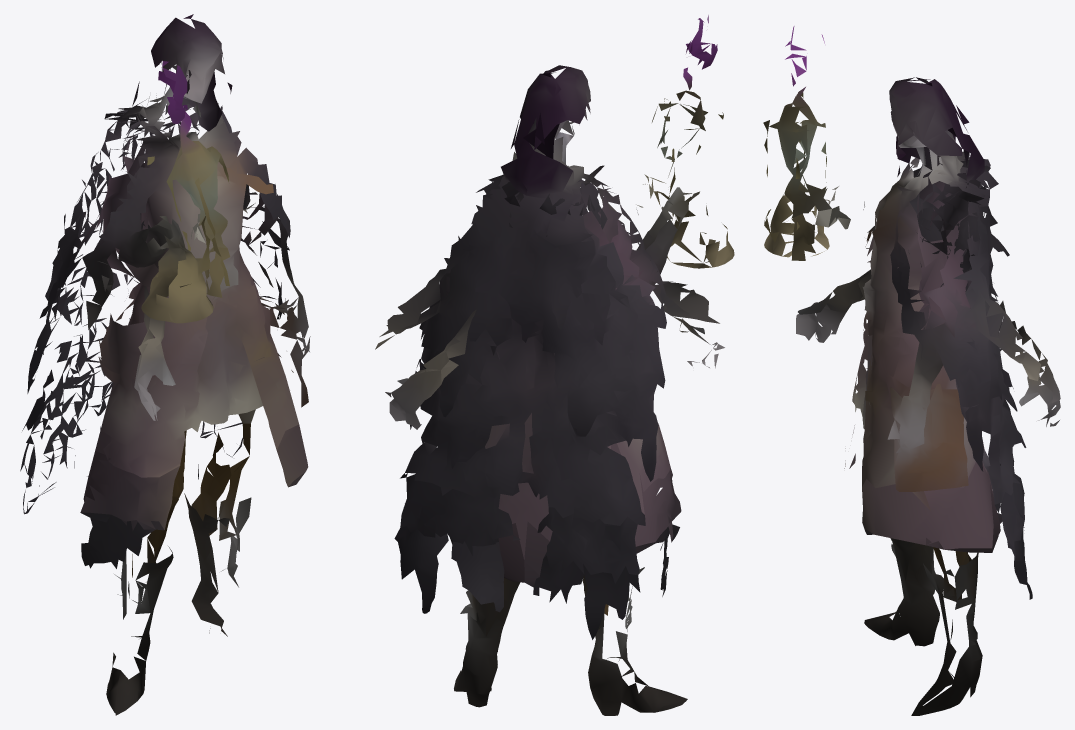
File: mirela.glb
3 renders of one model, left to right at view 1: azimuth 30°, elevation 25°; view 2: azimuth 150°, elevation 25°; view 3: azimuth 270°, elevation 25°, orthographic. The views are drawn at different scales.
Visible parts, largest first — view 1: torso, hips, thighL, armL, thighR, foreL, shinL, shinR, armR; view 2: torso, hips, thighR, thighL, shinL, foreR, shinR, armL, armR; view 3: torso, hips, armL, foreL, shinL, thighR, shinR, armR, foreR, thighL.
Boxes of the visible parts, left/top/right/bottom form: torso: left=22, top=17, right=310, bottom=477; hips: left=20, top=404, right=308, bottom=530; thighL: left=23, top=455, right=178, bottom=612; armL: left=115, top=65, right=228, bottom=256; thighR: left=184, top=421, right=305, bottom=560; foreL: left=134, top=220, right=230, bottom=420; shinL: left=106, top=573, right=165, bottom=715; shinR: left=191, top=536, right=238, bottom=636; armR: left=165, top=72, right=232, bottom=135; torso: left=375, top=15, right=734, bottom=525; hips: left=400, top=443, right=681, bottom=583; thighR: left=394, top=523, right=524, bottom=636; thighL: left=524, top=521, right=679, bottom=652; shinL: left=588, top=622, right=687, bottom=715; foreR: left=385, top=309, right=476, bottom=429; shinR: left=454, top=612, right=504, bottom=707; armL: left=523, top=67, right=707, bottom=236; armR: left=476, top=113, right=544, bottom=227; torso: left=764, top=26, right=1059, bottom=510; hips: left=844, top=425, right=1024, bottom=549; armL: left=763, top=73, right=990, bottom=226; foreL: left=764, top=207, right=950, bottom=342; shinL: left=864, top=548, right=939, bottom=646; thighR: left=865, top=483, right=1032, bottom=620; shinR: left=911, top=592, right=982, bottom=715; armR: left=897, top=105, right=986, bottom=255; foreR: left=920, top=248, right=1060, bottom=426; thighL: left=890, top=460, right=1013, bottom=580.
Size of the model in its own units: 0.4317 by 0.9948 by 0.4336.
